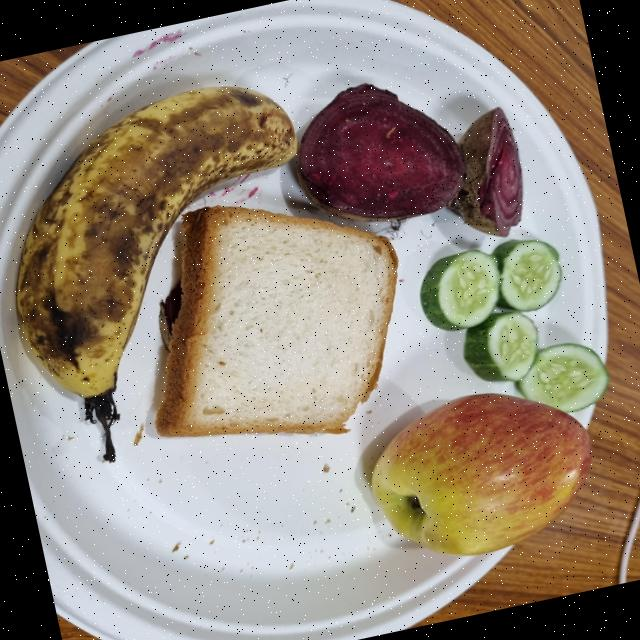apple: (366, 395, 589, 556)
banana: (10, 85, 295, 401)
cucumber: (515, 341, 607, 416), (416, 251, 499, 331), (488, 237, 561, 315), (463, 312, 537, 383)
